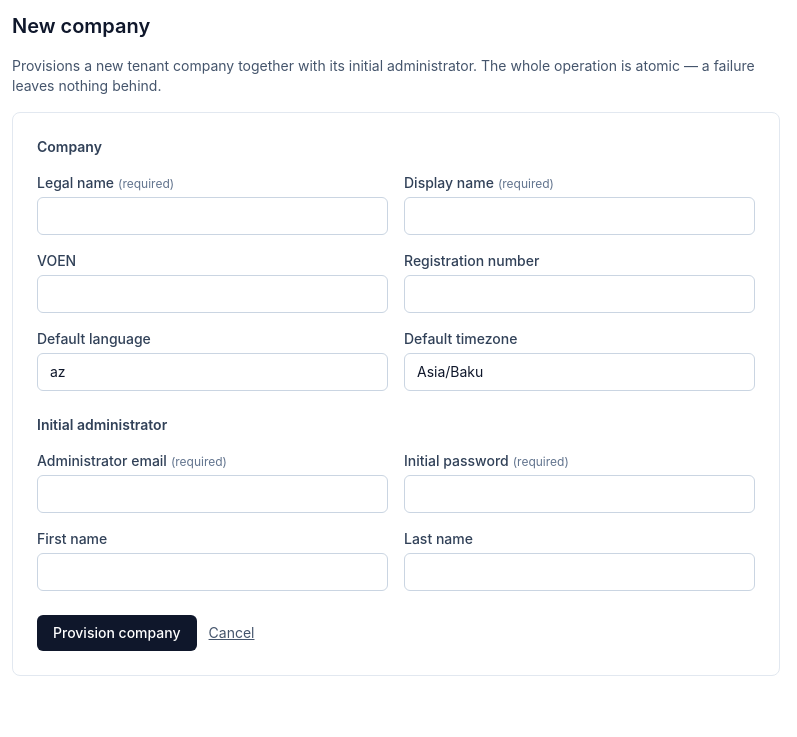
Test: AdminCompanyCreatePage › shows backend password validation errors
Type "Acme LLC" into the field labelled "Legal name(required)" at (212, 216), box [37,197,388,235]
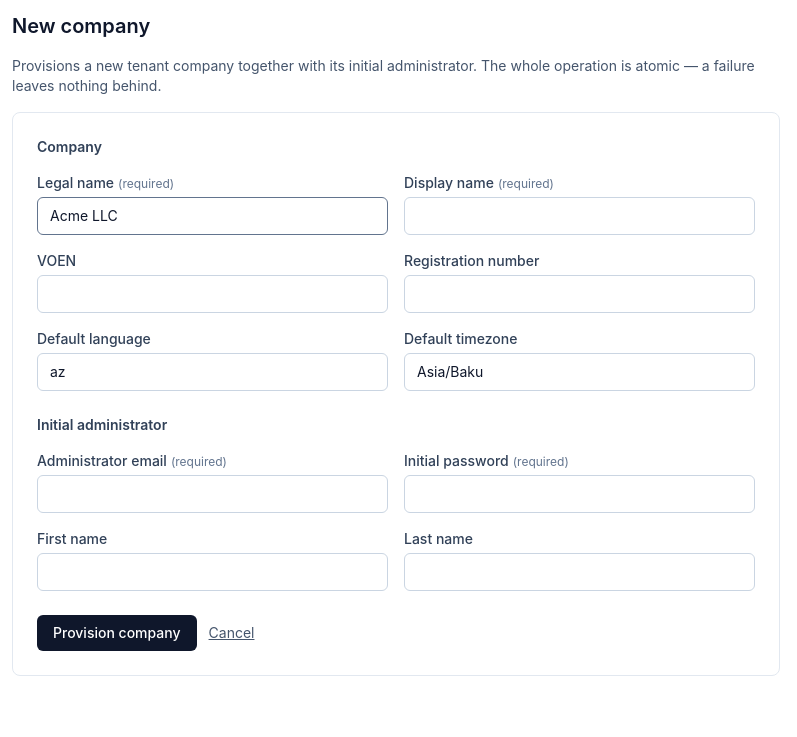
Type "Acme" into the field labelled "Display name(required)" at (580, 216), box [404,197,755,235]
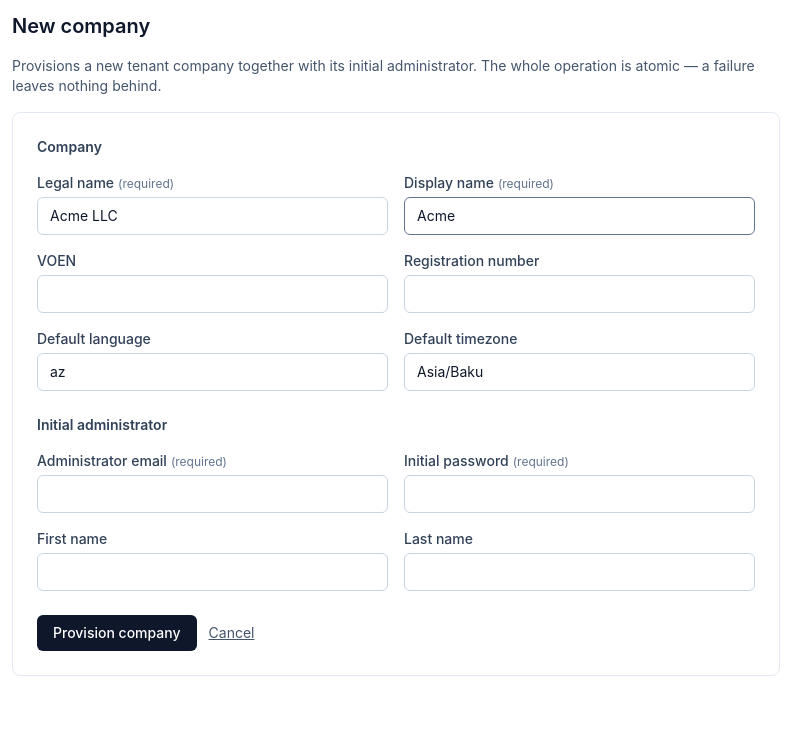
Type "owner@acme.example" into the field labelled "Administrator email(required)" at (212, 494), box [37,475,388,513]
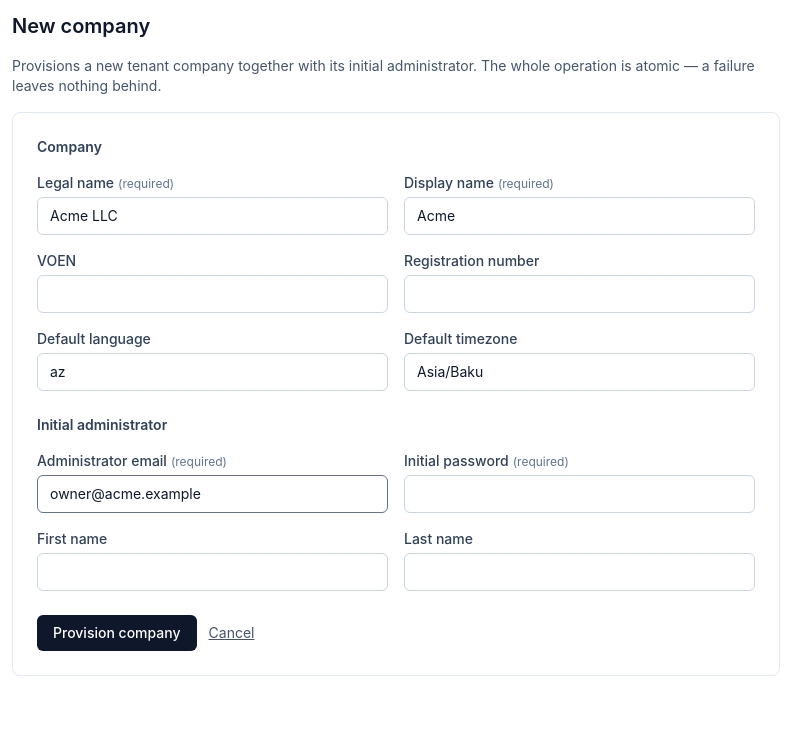
Type "Str0ng-pass-123!" into the password field labelled "Initial password(required)" at (580, 494), box [404,475,755,513]
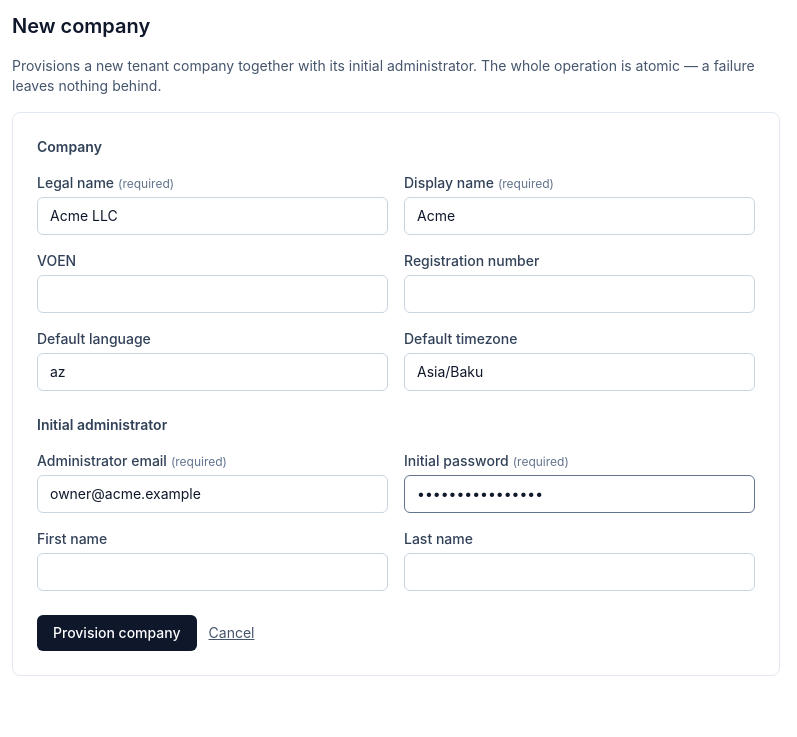
Click the button "Provision company" at (117, 633), box [37,615,196,651]
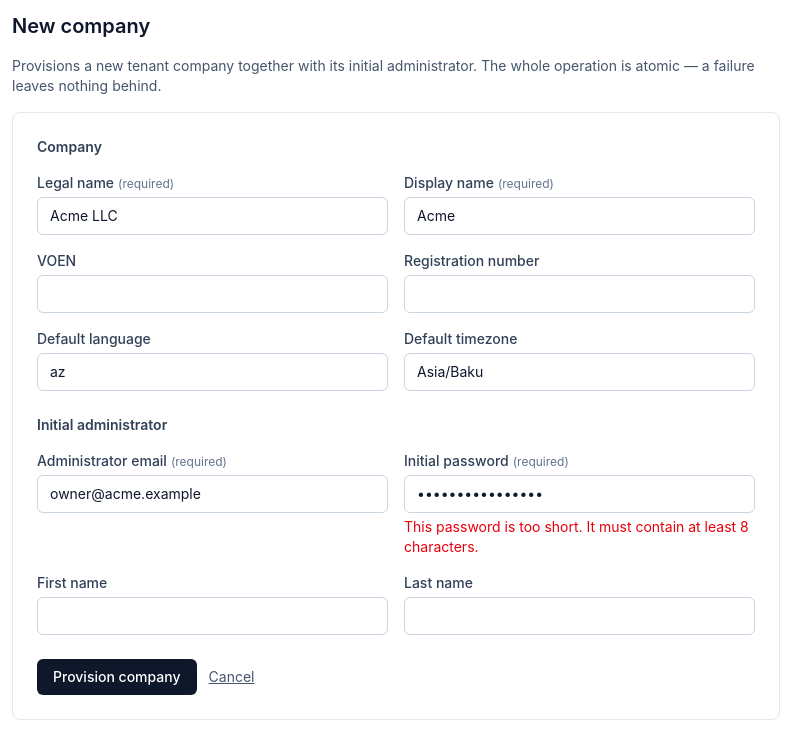
Expected: the text "This password is too short" is shown, [404,518,749,555]
